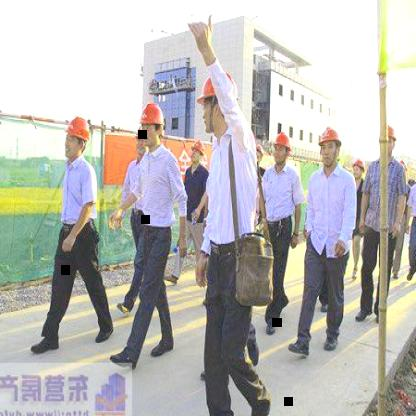helmet: (196, 68, 241, 109), (61, 111, 94, 150), (134, 97, 167, 135), (315, 121, 346, 156), (266, 124, 297, 158), (413, 156, 416, 186)
